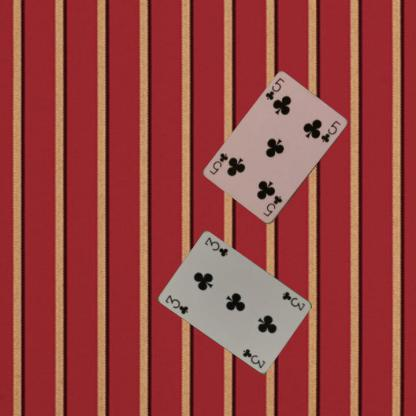3c: (280, 289, 306, 312), (163, 292, 189, 315)
5c: (260, 193, 284, 218), (263, 76, 286, 102)
